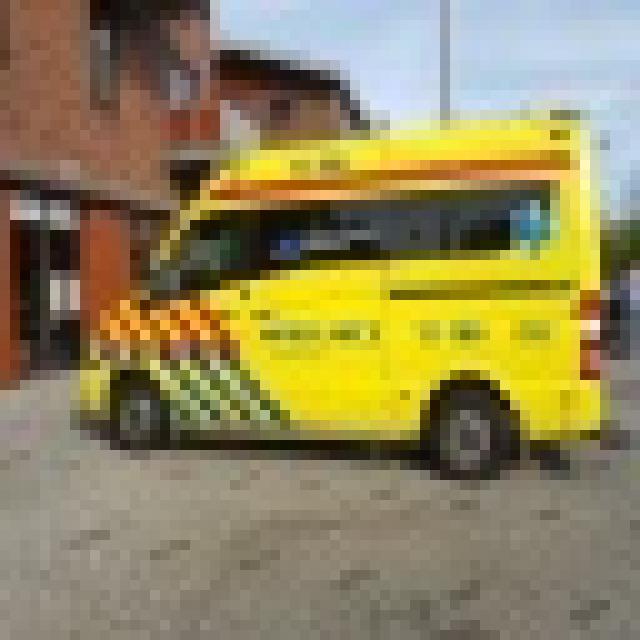ambulance: (70, 100, 600, 470)
